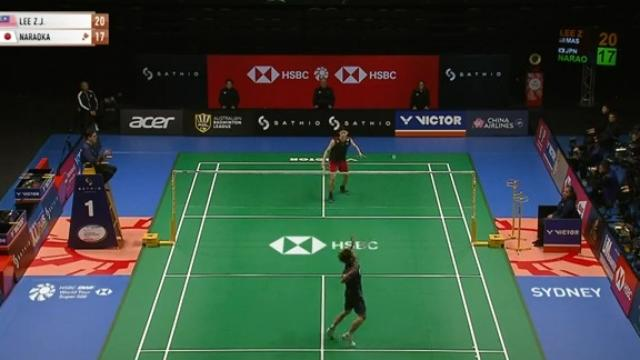Shuttlecock: (390, 152, 398, 162)
